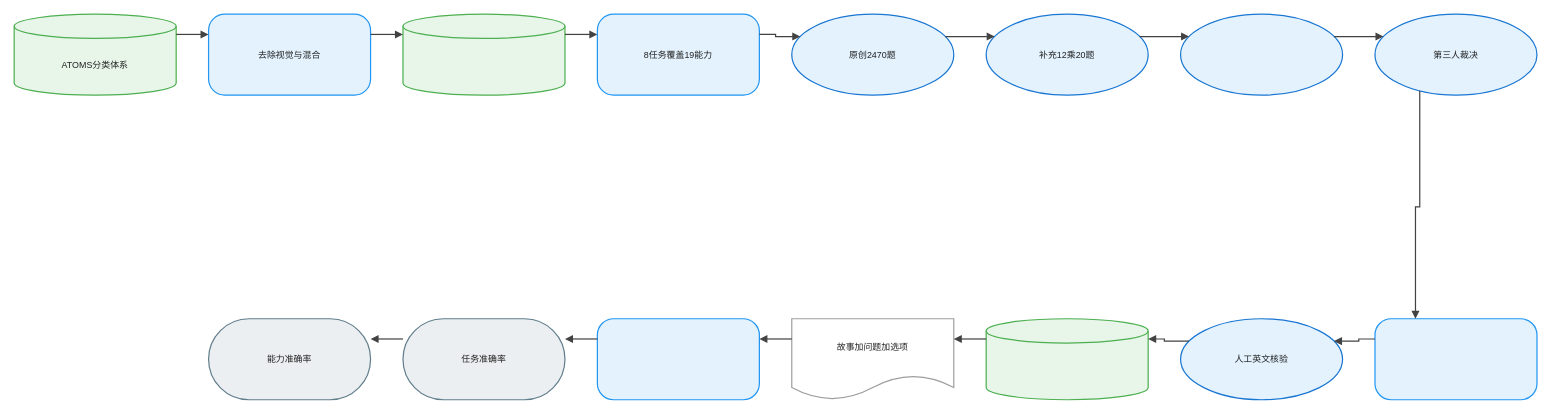
Image size: 1552x415. Some labels were removed from this diagram. The shapes that lost their labels are listed below. From the top down, each one's centre as x and y in pixels, then its label:
At pixel 483 54: "6维度31能力".
At pixel 1261 54: "两轮交叉作答".
At pixel 678 359: "解析选项".
At pixel 1066 359: "2860道双语选择题".
At pixel 1455 359: "GPT-4翻译".
